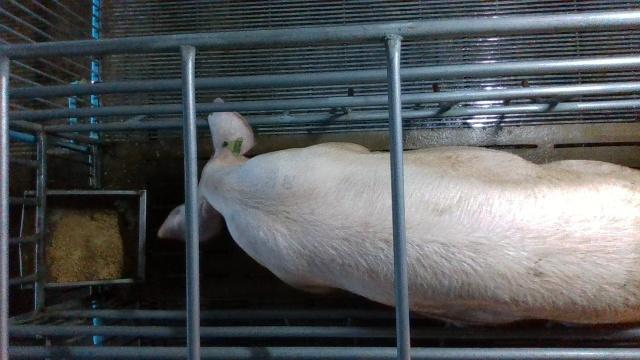sow-stand: (155, 97, 640, 328)
